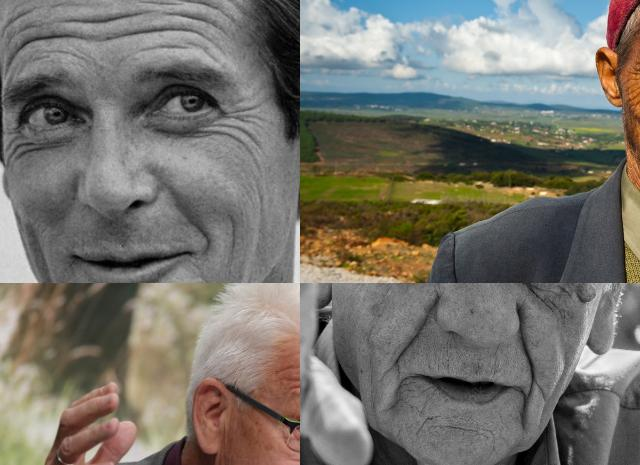chin: (442, 418, 496, 440), (414, 409, 434, 441)
crows_feet: (220, 108, 258, 140), (0, 128, 28, 158), (628, 57, 640, 83)
forehead: (9, 31, 61, 59), (79, 4, 127, 32), (105, 24, 165, 44), (173, 0, 209, 33), (146, 38, 192, 58), (0, 2, 28, 31), (137, 0, 178, 12), (288, 362, 300, 397)
gummy_smile: (398, 296, 437, 360), (513, 310, 539, 380)
masseter: (220, 214, 242, 258), (625, 91, 640, 111)
sad_smile: (388, 375, 407, 411), (516, 393, 532, 431)
